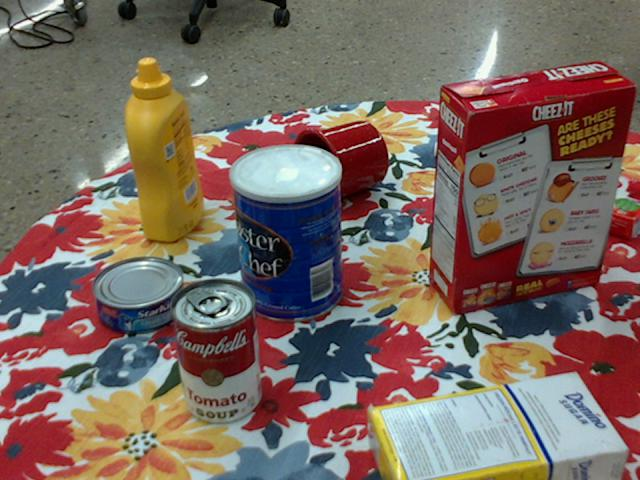cracker_box: (431, 63, 637, 315)
gelatin_box: (568, 171, 639, 239)
large_marker: (434, 141, 532, 164)
master_chef_can: (228, 143, 340, 322)
mug: (290, 120, 388, 209)
mustard_bottle: (125, 59, 203, 242)
sugar_box: (367, 371, 628, 479)
tomato_soup_can: (168, 276, 259, 423)
tuna_fish_can: (91, 255, 184, 331)
